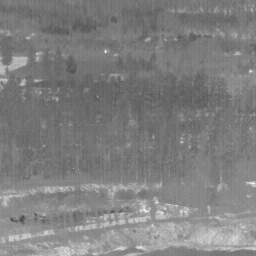aircraft: (96, 96, 98, 98)
